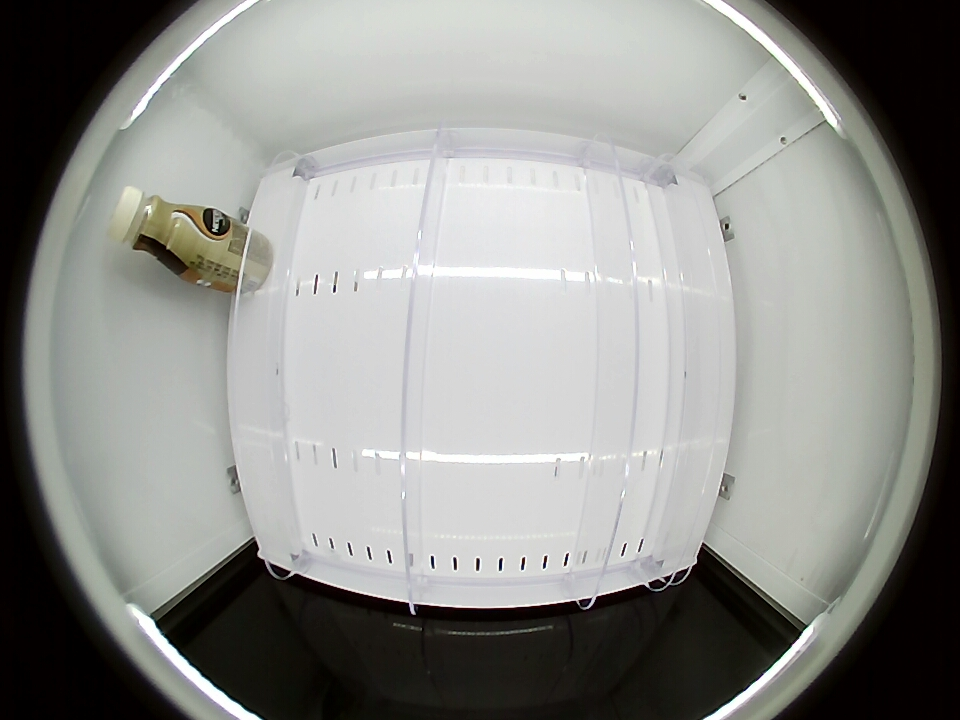kafei: (108, 186, 210, 275)
